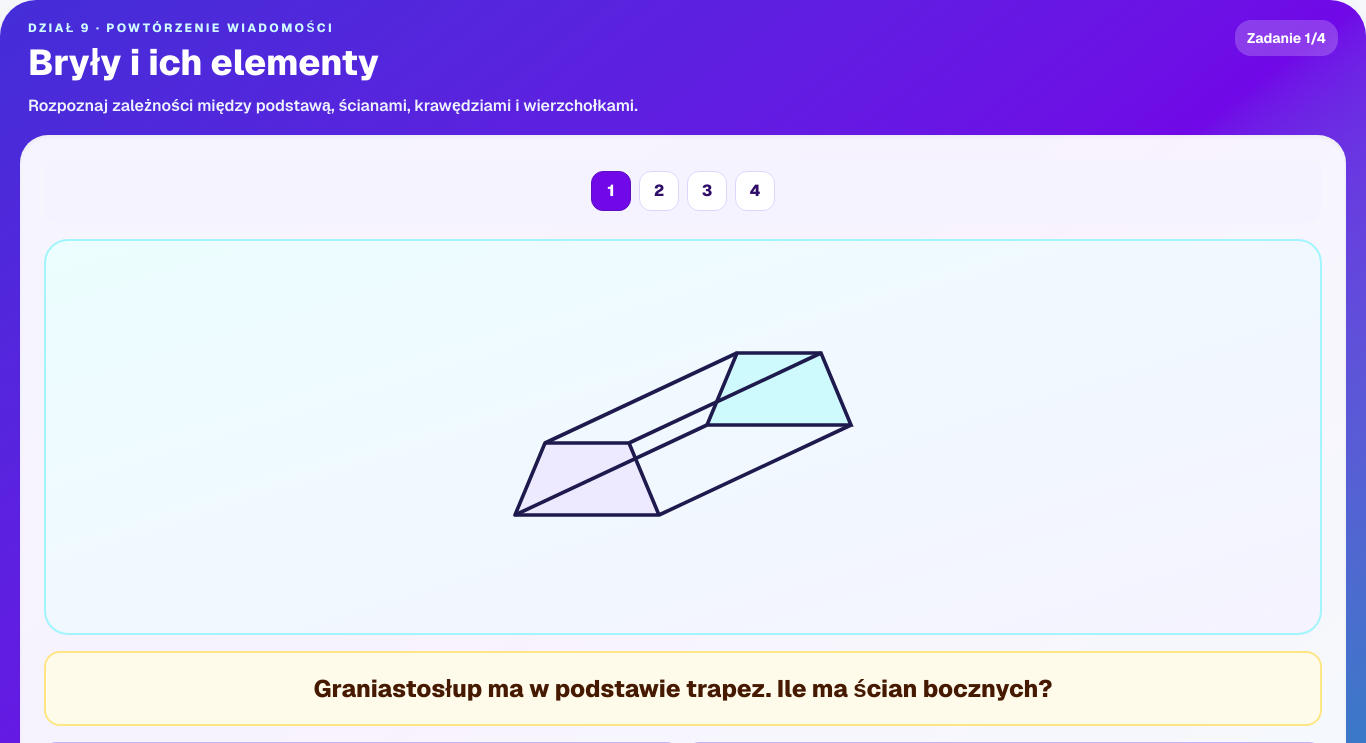
Scenario: SolidReviewLessonLab › pozwala swobodnie przechodzić między zadaniami
What coordinates should you click on to do the following:
click the button named "Przejdź do zadania 4"
I would click on:
 (755, 191)
Its box is 735,171 -> 775,211.
(page scrolled)
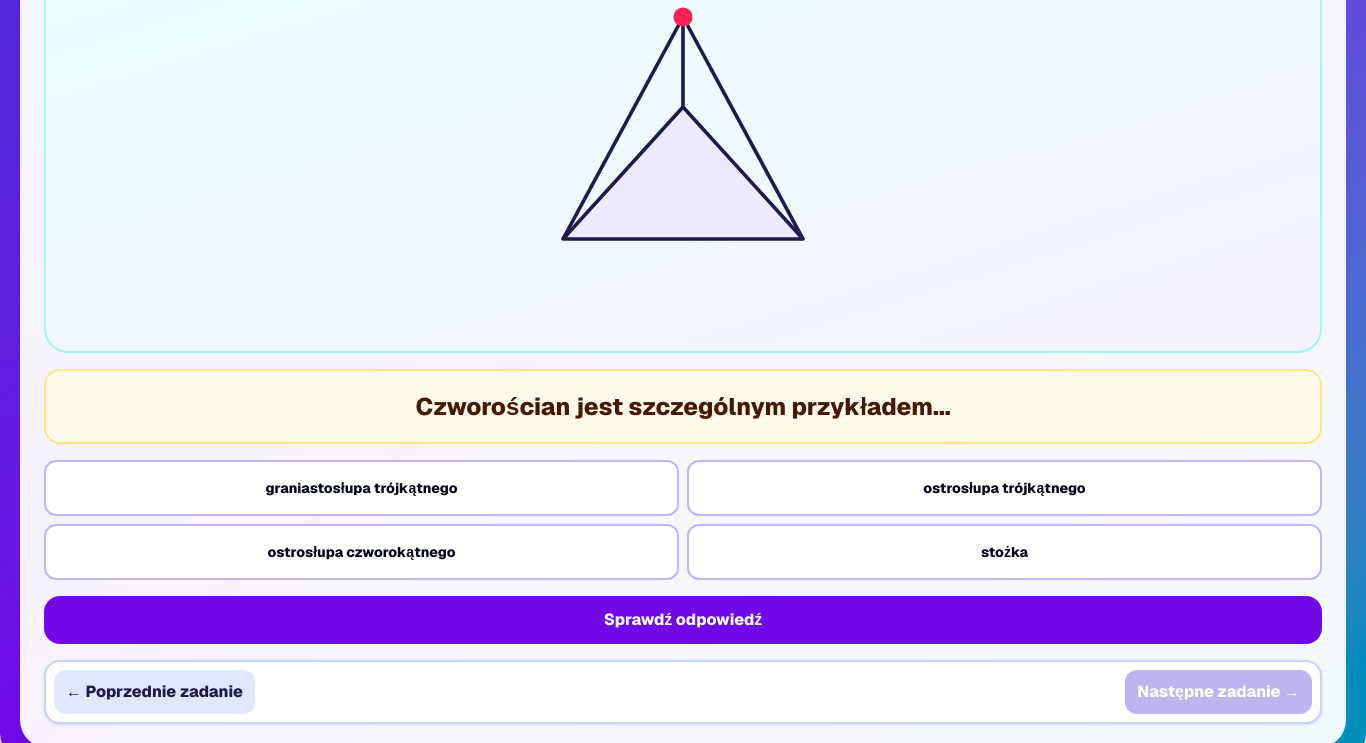
Now the text "Czworościan jest szczególnym przykładem…" is shown, box 415,391 -> 951,422
What coordinates should you click on to do the following:
click the button "← Poprzednie zadanie"
I would click on:
 (154, 692)
Its box is 54,670 -> 255,714.
(page scrolled)
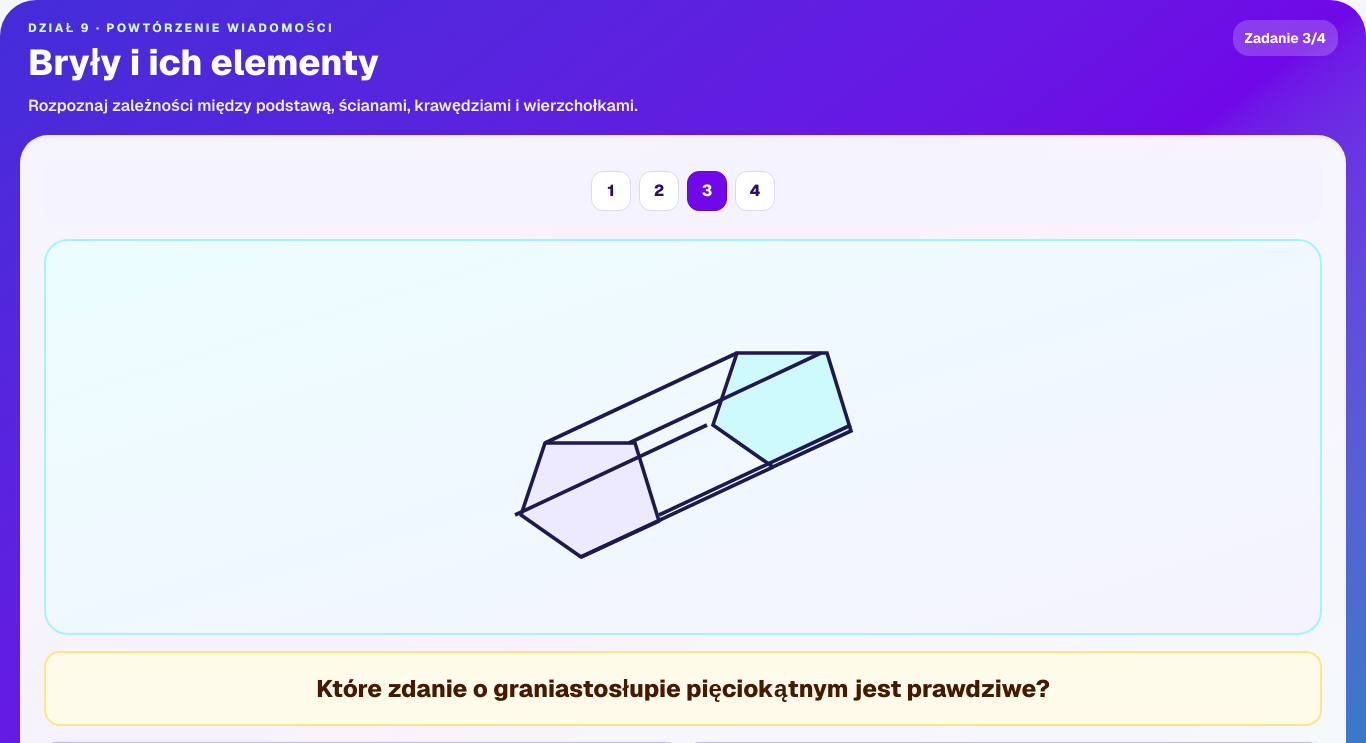
Now the text "Zadanie 3/4" is shown, box 1232,20 -> 1338,56
